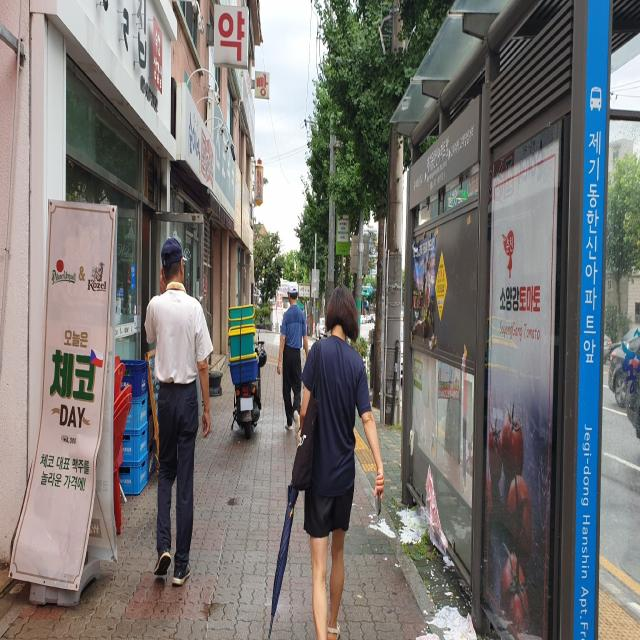motorbike: (226, 304, 262, 436)
